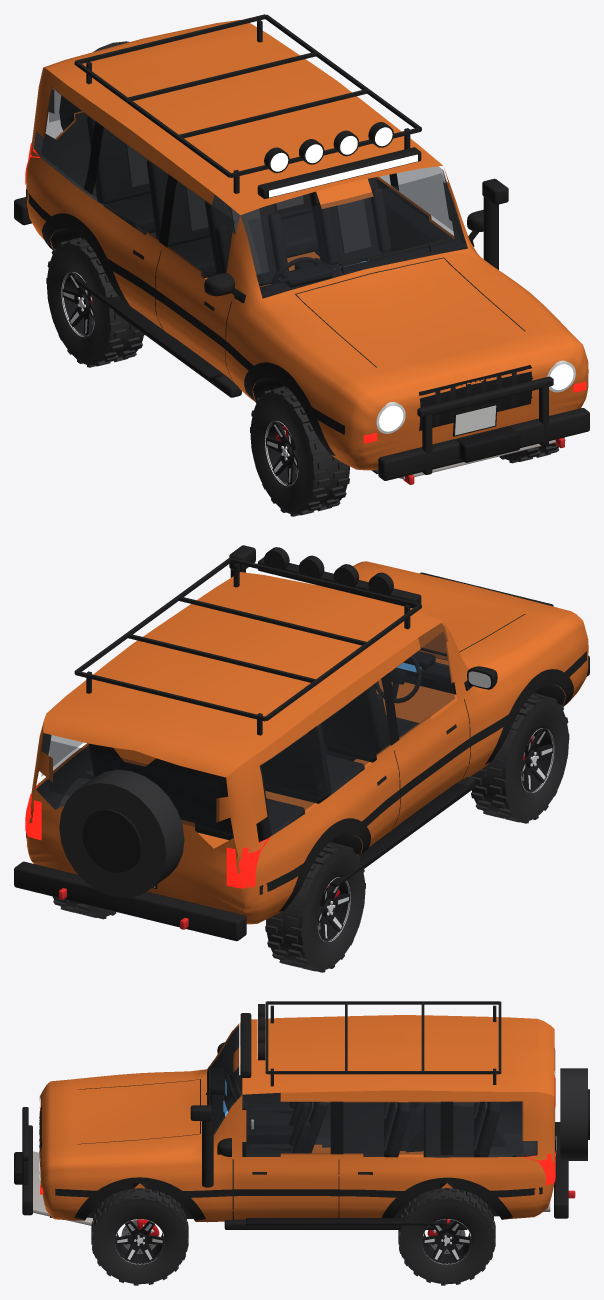
Rendered from troodos.glb.
3 renders of one model, top to bottom at view 1: azimuth 30°, elevation 25°; view 2: azimuth 150°, elevation 25°; view 3: azimuth 270°, elevation 25°, orthographic. The views are drawn at different scales.
Visible parts, largest first — view 1: Body, Wheel_FR, Wheel_RR; view 2: Body, Wheel_RR, Wheel_FR, Wheel_RL; view 3: Body, Wheel_FL, Wheel_RL.
Part boxes in pixels (left/top/right/bottom): Body: left=14, top=14, right=589, bottom=484; Wheel_FR: left=250, top=386, right=349, bottom=516; Wheel_RR: left=46, top=237, right=144, bottom=367; Body: left=14, top=545, right=589, bottom=941; Wheel_RR: left=265, top=842, right=365, bottom=972; Wheel_FR: left=469, top=693, right=569, bottom=823; Wheel_RL: left=52, top=896, right=116, bottom=919; Body: left=14, top=1001, right=589, bottom=1229; Wheel_FL: left=91, top=1188, right=188, bottom=1285; Wheel_RL: left=398, top=1188, right=495, bottom=1285.
Bounding box in the file's own units: 2.38 × 2.24 × 5.44.
